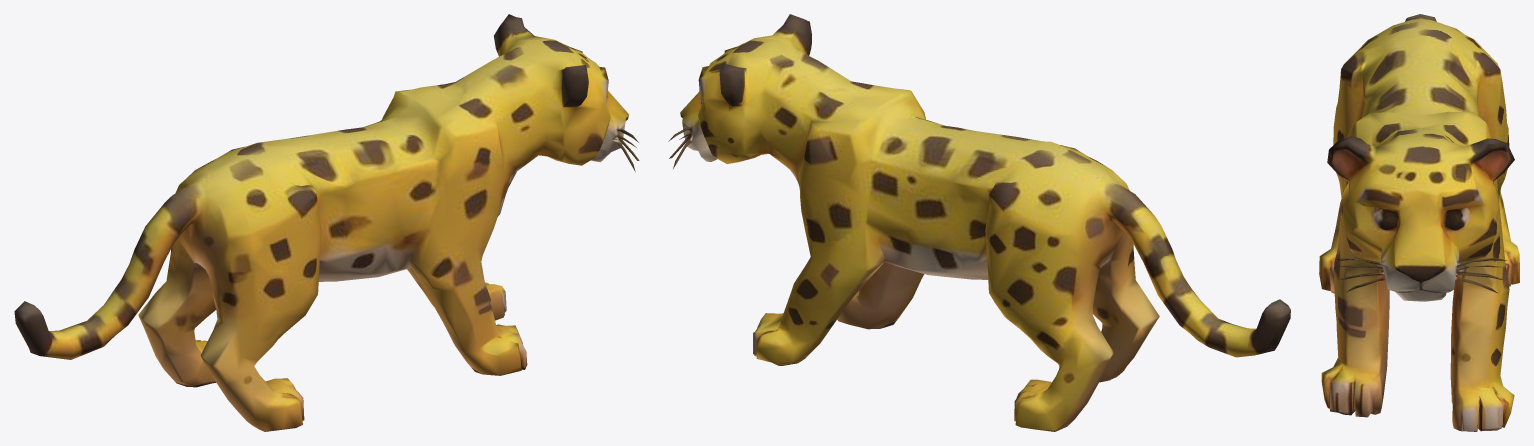
File: jaguar.glb
The picture shows the model from 3 angles, left to right: view 1: azimuth 30°, elevation 25°; view 2: azimuth 150°, elevation 25°; view 3: azimuth 270°, elevation 25°; orthographic projection. The views are drawn at different scales.
Visible parts, largest first — view 1: tripo_node_32ce602a-7046-44d8-b1b9-6ac4fbdd56ea; view 2: tripo_node_32ce602a-7046-44d8-b1b9-6ac4fbdd56ea; view 3: tripo_node_32ce602a-7046-44d8-b1b9-6ac4fbdd56ea.
Part boxes in pixels (x1,y1,x2,y2): tripo_node_32ce602a-7046-44d8-b1b9-6ac4fbdd56ea: (14, 14, 639, 431); tripo_node_32ce602a-7046-44d8-b1b9-6ac4fbdd56ea: (668, 14, 1290, 431); tripo_node_32ce602a-7046-44d8-b1b9-6ac4fbdd56ea: (1319, 14, 1519, 431).
Bounding box in the file's own units: 1 × 0.4541 × 0.2676.
1 material, 1 textured.
